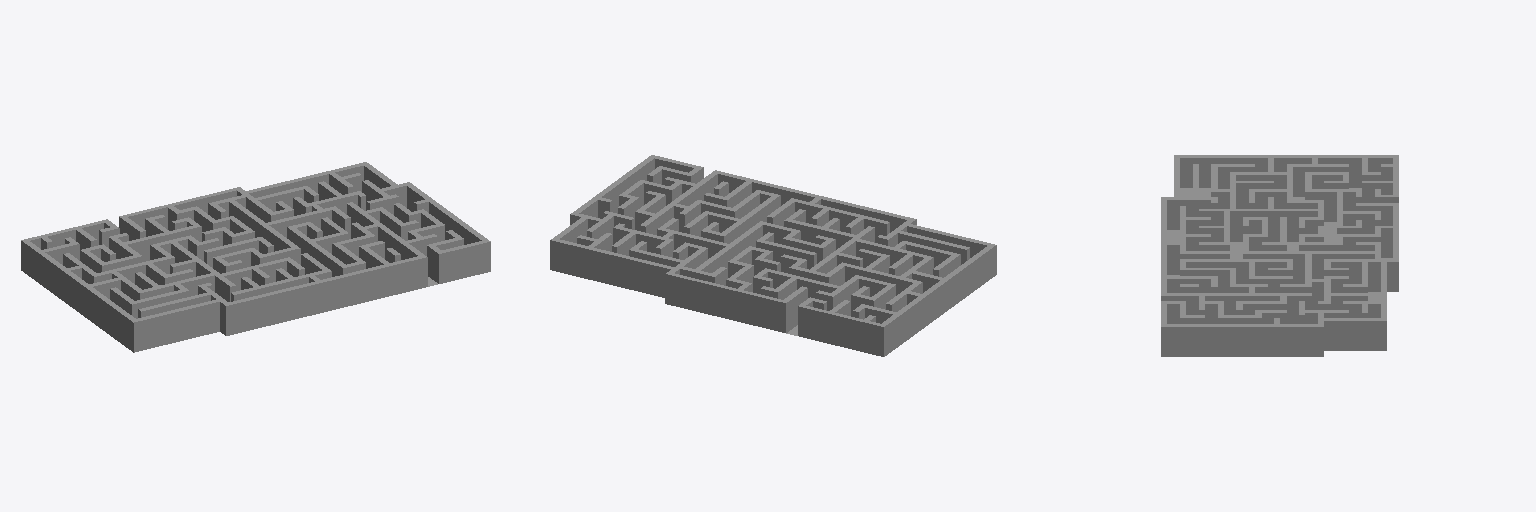
Rendered from maze_floor.obj.
The picture shows the model from 3 angles: view 1: azimuth 30°, elevation 25°; view 2: azimuth 150°, elevation 25°; view 3: azimuth 270°, elevation 25°; orthographic projection.
Visible parts, largest first — view 1: LABIRINTO; view 2: LABIRINTO; view 3: LABIRINTO.
Part boxes in pixels (left/top/right/bottom): LABIRINTO: left=21, top=162, right=490, bottom=352; LABIRINTO: left=550, top=155, right=996, bottom=356; LABIRINTO: left=1161, top=155, right=1398, bottom=356.
Size of the model in its own units: 14.77 by 1.21 by 8.66.